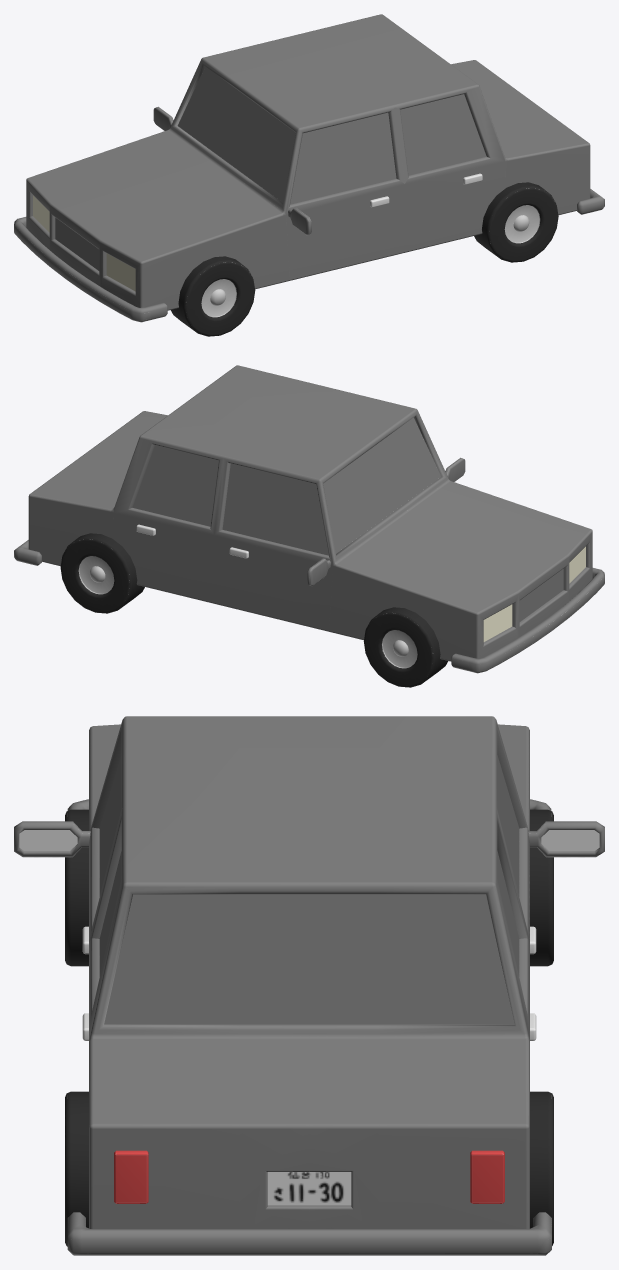
File: Car.obj
The picture shows the model from 3 angles, top to bottom: view 1: azimuth 30°, elevation 25°; view 2: azimuth 150°, elevation 25°; view 3: azimuth 270°, elevation 25°; orthographic projection. The views are drawn at different scales.
Parts seen in each view (by area): view 1: Car_MainSG, Car_Glass13SG, Car_Wheel1SG, Car_Wheel2SG, Car_FrontSG, Car_BackSG; view 2: Car_MainSG, Car_Glass13SG, Car_Wheel3SG, Car_Wheel4SG, Car_FrontSG, Car_BackSG; view 3: Car_MainSG, Car_Glass13SG, Car_BackSG, Car_Wheel2SG, Car_Wheel3SG, Car_Wheel1SG, Car_Wheel4SG, Car_SideMirror1SG, Car_SideMirror2SG, Car_BackLight2SG, Car_BackLight1SG.
Part boxes in pixels (<box>): Car_MainSG: <box>26,14,590,310</box>; Car_Glass13SG: <box>177,66,486,204</box>; Car_Wheel1SG: <box>170,256,255,336</box>; Car_Wheel2SG: <box>474,182,558,262</box>; Car_FrontSG: <box>14,217,167,322</box>; Car_BackSG: <box>577,189,604,214</box>; Car_MainSG: <box>28,365,592,661</box>; Car_Glass13SG: <box>132,417,441,555</box>; Car_Wheel3SG: <box>60,533,144,613</box>; Car_Wheel4SG: <box>363,607,448,687</box>; Car_FrontSG: <box>451,568,604,673</box>; Car_BackSG: <box>14,540,41,565</box>; Car_MainSG: <box>89,716,529,1228</box>; Car_Glass13SG: <box>99,755,519,1024</box>; Car_BackSG: <box>67,1212,551,1255</box>; Car_Wheel2SG: <box>65,1091,88,1246</box>; Car_Wheel3SG: <box>530,1091,553,1245</box>; Car_Wheel1SG: <box>65,809,88,966</box>; Car_Wheel4SG: <box>530,809,553,966</box>; Car_SideMirror1SG: <box>14,821,90,857</box>; Car_SideMirror2SG: <box>528,821,604,857</box>; Car_BackLight2SG: <box>470,1150,504,1203</box>; Car_BackLight1SG: <box>114,1150,148,1203</box>.
Size of the model in its own units: 26.33 by 9.14 by 14.78.
16 materials, 16 textured.
